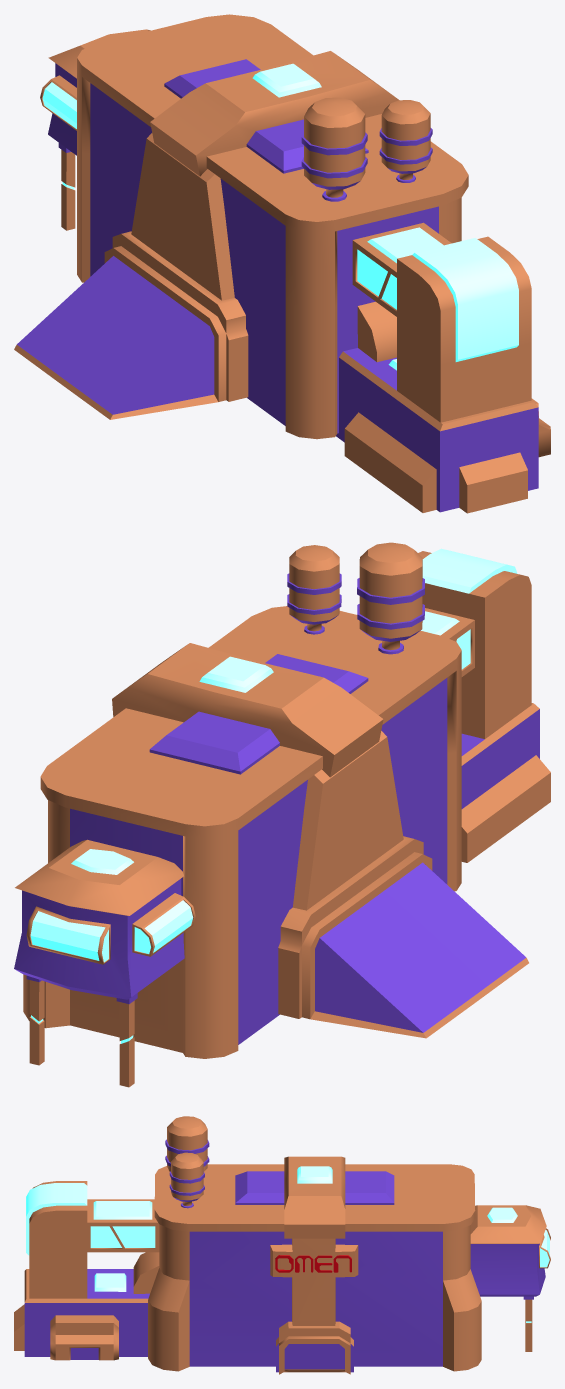
The model's file is OMENHQ.fbx.
3 views of the same model, one above another, from view 1: azimuth 30°, elevation 25°; view 2: azimuth 150°, elevation 25°; view 3: azimuth 270°, elevation 25° (orthographic). The views are drawn at different scales.
Visible parts, largest first — view 1: OMen_MainHQ; view 2: OMen_MainHQ; view 3: OMen_MainHQ.
Part boxes in pixels (x1,y1,x2,y2): OMen_MainHQ: (14, 14, 550, 513); OMen_MainHQ: (14, 542, 550, 1087); OMen_MainHQ: (14, 1116, 550, 1374).
Bounding box in the file's own units: 8737 × 8048 × 18597.
